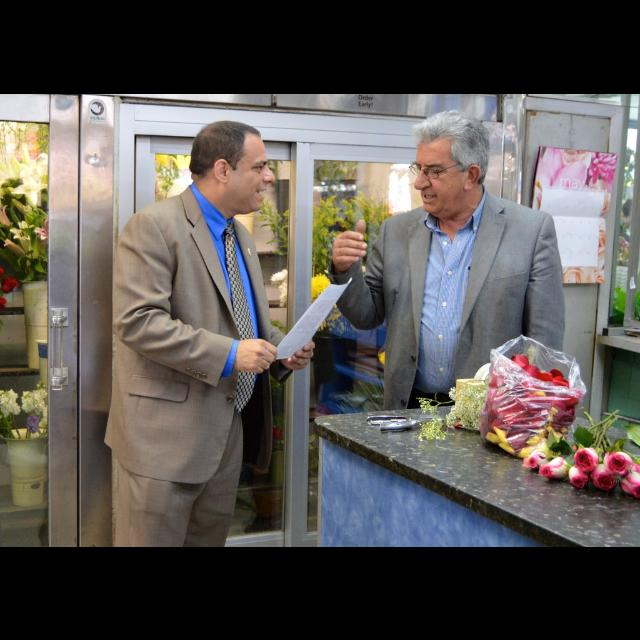Flower: (480, 351, 584, 457), (0, 142, 48, 272), (520, 447, 640, 499), (532, 146, 596, 186), (0, 386, 50, 430), (152, 152, 192, 200), (592, 148, 616, 186), (313, 271, 331, 299), (1, 277, 20, 293), (278, 278, 286, 310), (272, 266, 288, 280), (29, 414, 38, 432), (0, 292, 6, 310), (1, 264, 4, 274), (382, 352, 383, 366)
